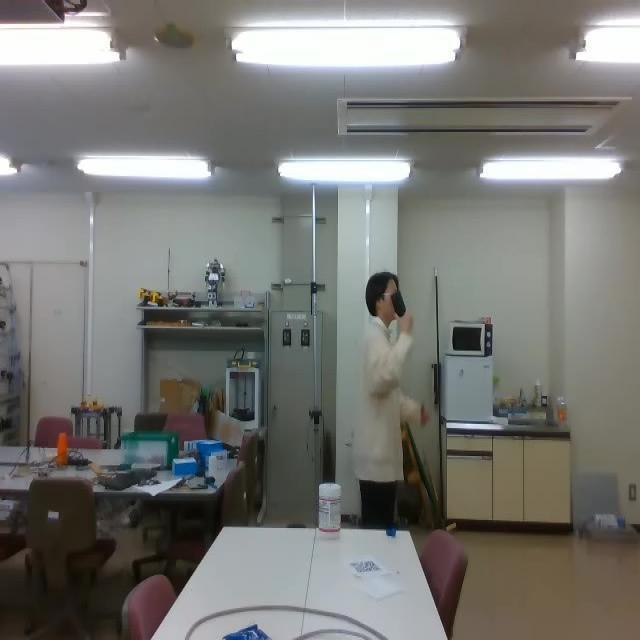Phone: (390, 288, 408, 320)
